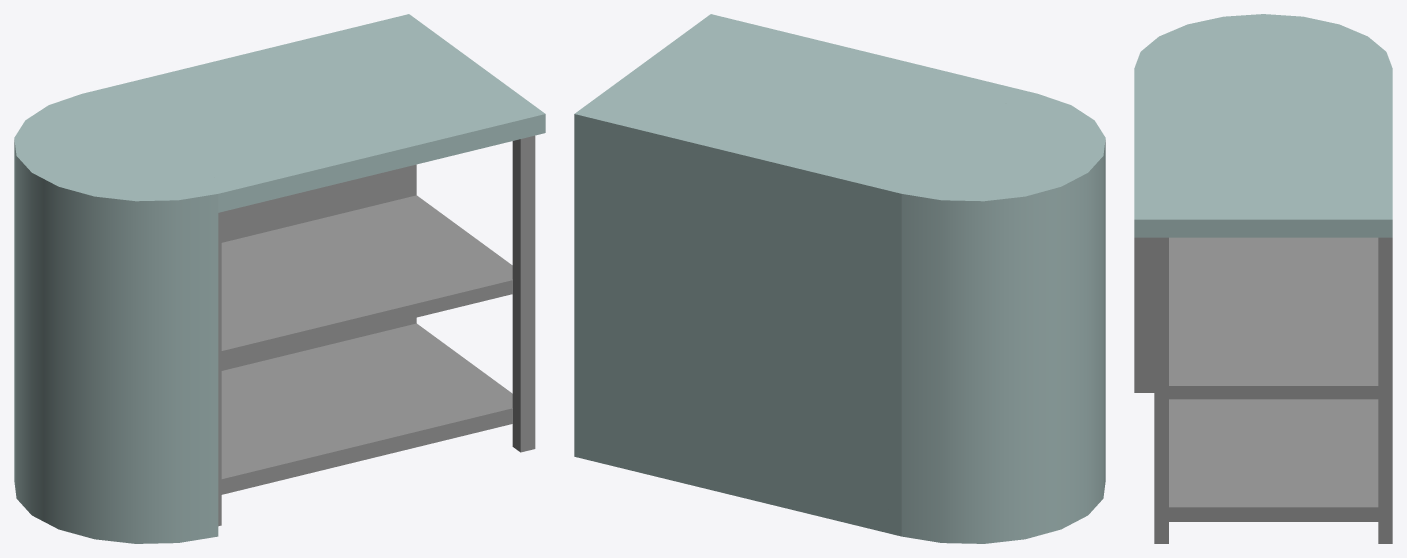
File: CounterEnd03Combo.fbx
The picture shows the model from 3 angles, left to right: view 1: azimuth 30°, elevation 25°; view 2: azimuth 150°, elevation 25°; view 3: azimuth 270°, elevation 25°; orthographic projection. The views are drawn at different scales.
Parts seen in each view (by area): view 1: polySurface9, polySurface11, polySurface10; view 2: polySurface10, polySurface9; view 3: polySurface11, polySurface10, polySurface9.
Part boxes in pixels (x1,y1,x2,y2): polySurface9: (14,94,218,543); polySurface11: (218,135,535,526); polySurface10: (82,14,545,212); polySurface10: (574,14,1037,536); polySurface9: (901,94,1105,543); polySurface11: (1134,237,1392,543); polySurface10: (1134,68,1392,237); polySurface9: (1134,14,1392,68).
Size of the model in its own units: 1224 by 900 by 650.
